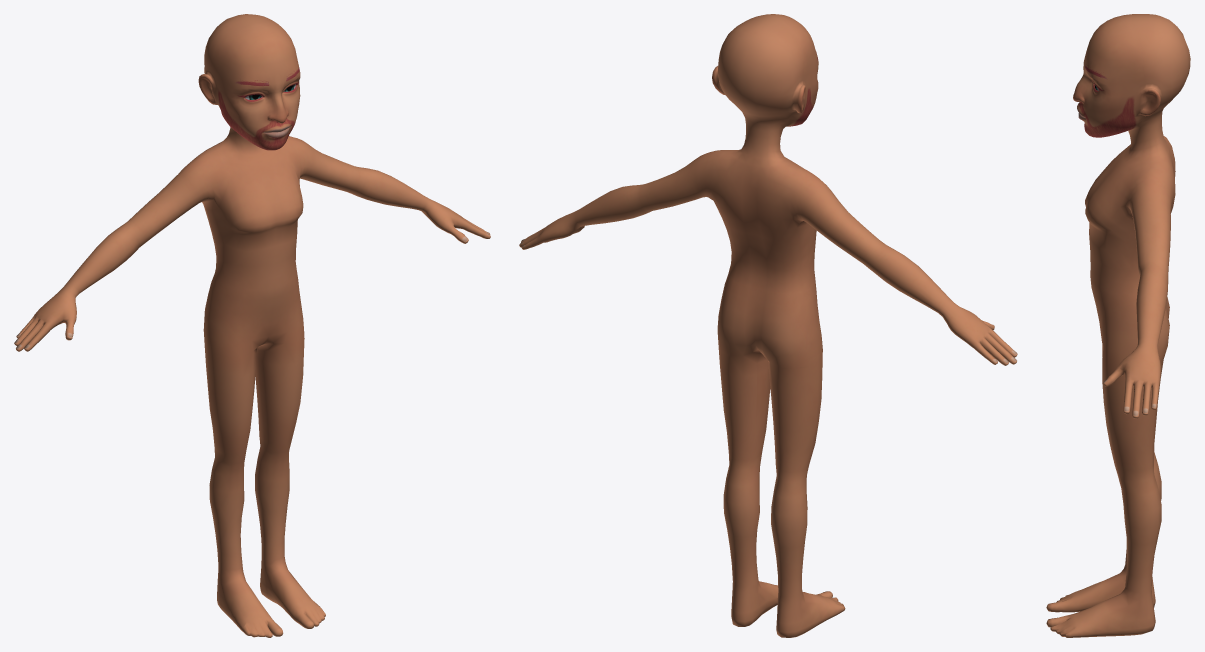
File: frame_0094.glb
3 views of the same model, side by side, from view 1: azimuth 30°, elevation 25°; view 2: azimuth 150°, elevation 25°; view 3: azimuth 270°, elevation 25° (orthographic). The views are drawn at different scales.
Parts seen in each view (by area): view 1: frame_0094_head_geo; view 2: frame_0094_head_geo; view 3: frame_0094_head_geo.
Boxes of the visible parts, <box> form: frame_0094_head_geo: <box>14,14,490,637</box>; frame_0094_head_geo: <box>519,14,1017,637</box>; frame_0094_head_geo: <box>1046,14,1190,637</box>.
Size of the model in its own units: 1.28 by 1.5 by 0.3253.
Materials: 3 (3 with a texture image).
